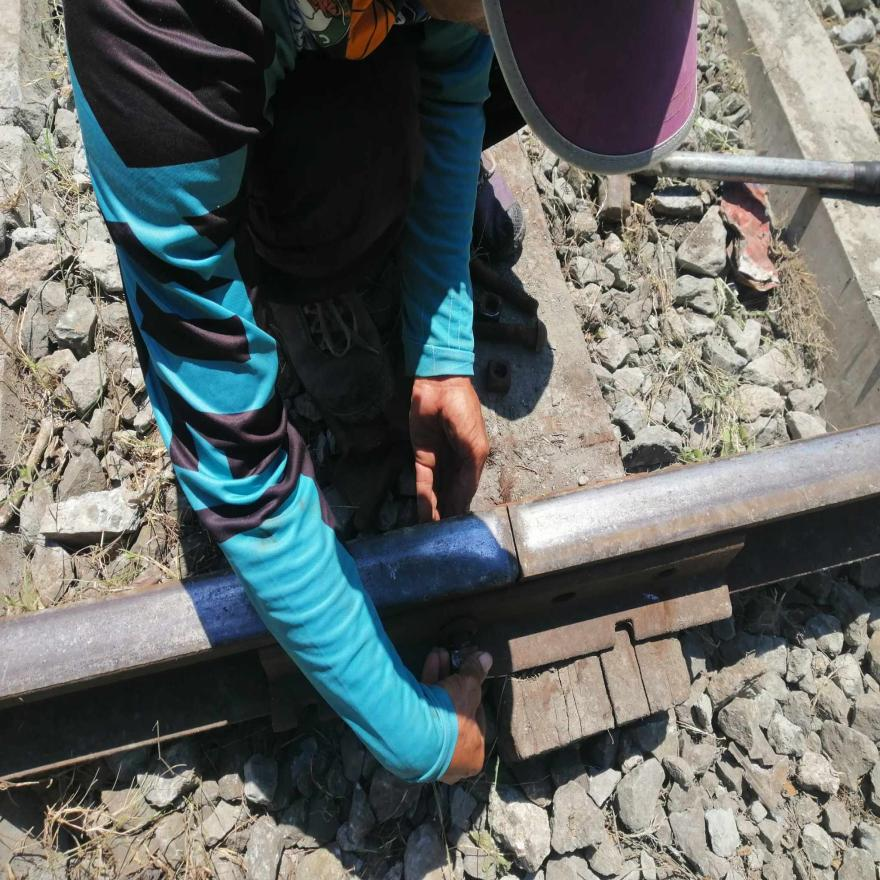railway-gap: (472, 492, 558, 597)
